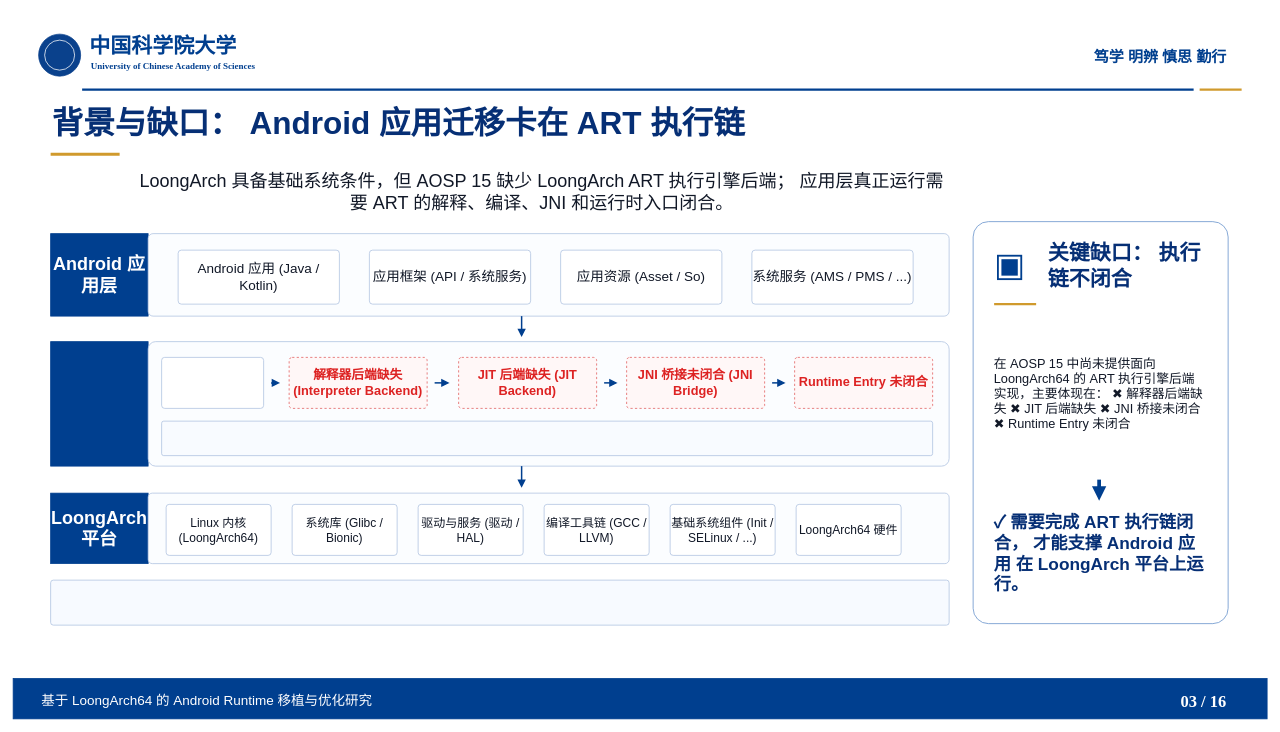
Some shapes in this 1280 by 732 pixel diagram are drawn without their labels. Each missing label, with the centre of its shape:
"ART 执行引擎" goes at point 99,403.
"ART 运行时公共组件（GC / 调度 / 对象模型 / 反射 / 异常处理 / 监控工具等）" goes at point 547,438.
"DEX / OAT 文件" goes at point 212,382.
"UCAS" goes at point 59,54.
"✓ 结论：系统与硬件条件已具备，缺失 ART 执行链关键后端，导致应用层无法真正运行。" goes at point 499,602.
